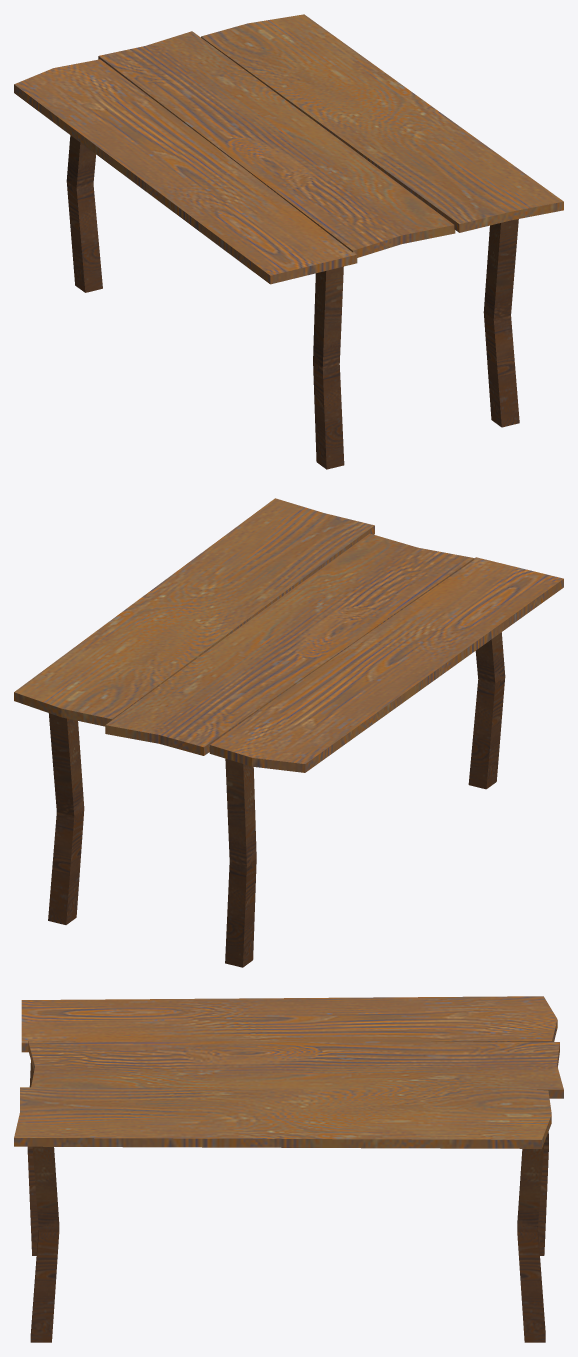
Rendered from Wooden Platform.fbx.
3 views of the same model, one above another, from view 1: azimuth 30°, elevation 25°; view 2: azimuth 150°, elevation 25°; view 3: azimuth 270°, elevation 25° (orthographic).
Parts seen in each view (by area): view 1: Cube.083, Cube.066; view 2: Cube.083, Cube.066; view 3: Cube.083, Cube.066.
Boxes of the visible parts, x1,y1,x2,y2 form: Cube.083: [14, 14, 563, 284]; Cube.066: [66, 135, 519, 469]; Cube.083: [14, 498, 563, 772]; Cube.066: [48, 632, 505, 967]; Cube.083: [14, 996, 563, 1148]; Cube.066: [27, 1061, 548, 1342].
Bounding box in the file's own units: 514 × 371 × 829.
